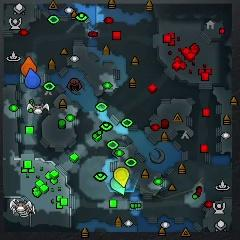p1: (25, 68, 41, 89)
p2: (110, 177, 126, 195)
p4: (114, 168, 129, 188)
p5: (21, 56, 37, 76)
